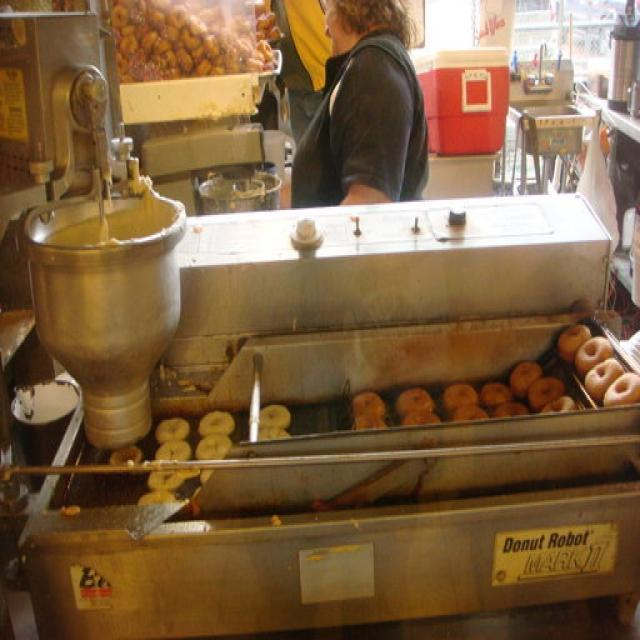Donuts: (125, 328, 640, 500), (109, 2, 288, 82)
